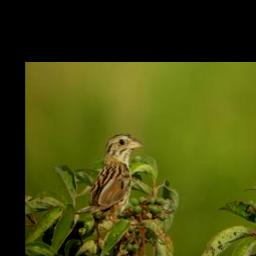Sparrow: (73, 131, 144, 248)
